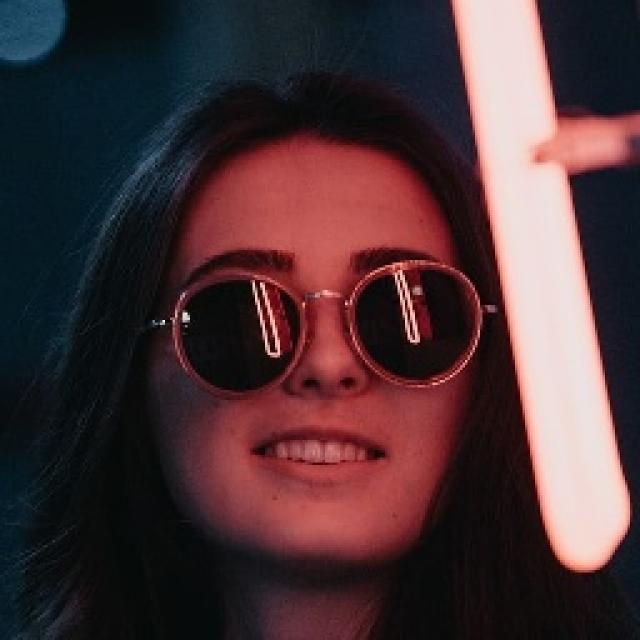glasses: (148, 242, 506, 422)
